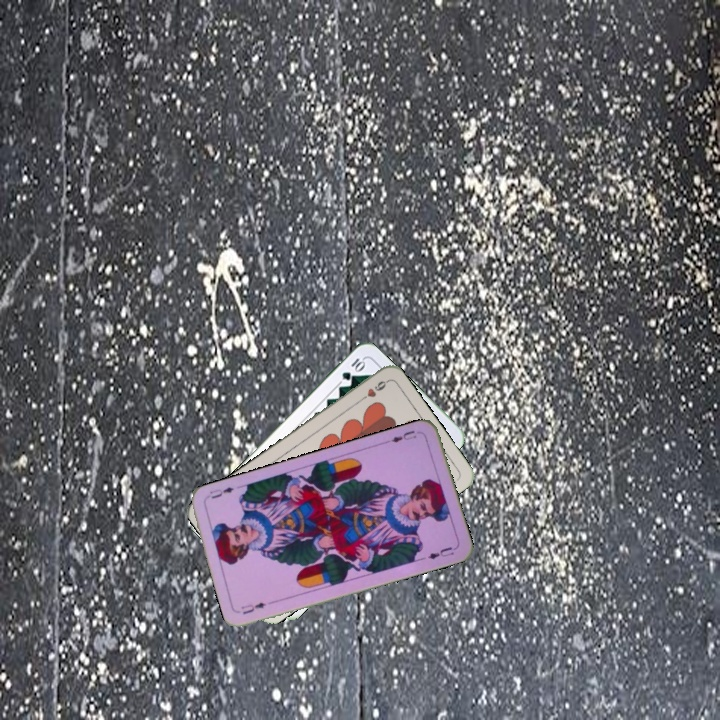EU: (383, 426, 419, 446), (237, 598, 268, 617)
G10: (338, 354, 368, 383)
H9: (355, 376, 390, 405)
